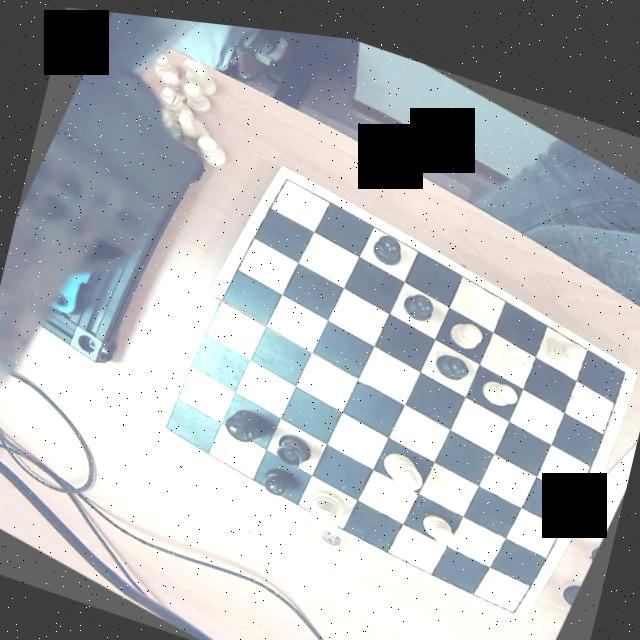chess-table-corners: (154, 404, 186, 438), (270, 158, 302, 190), (606, 342, 640, 371), (502, 582, 530, 610)
